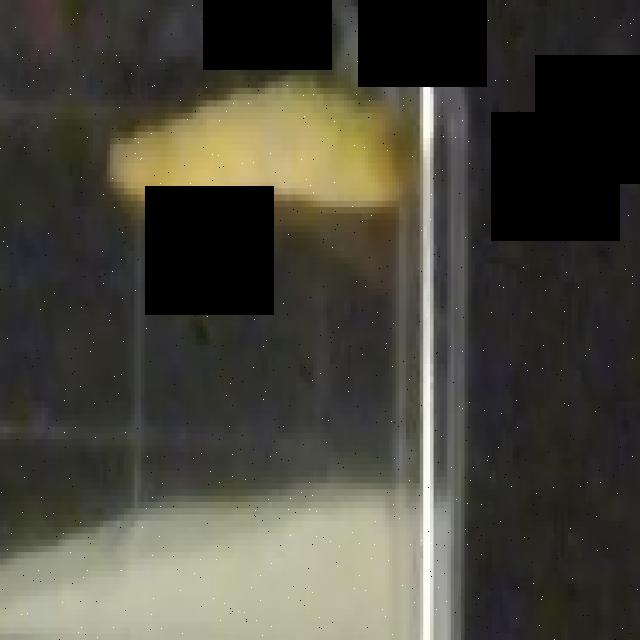larva: (95, 53, 422, 244)
